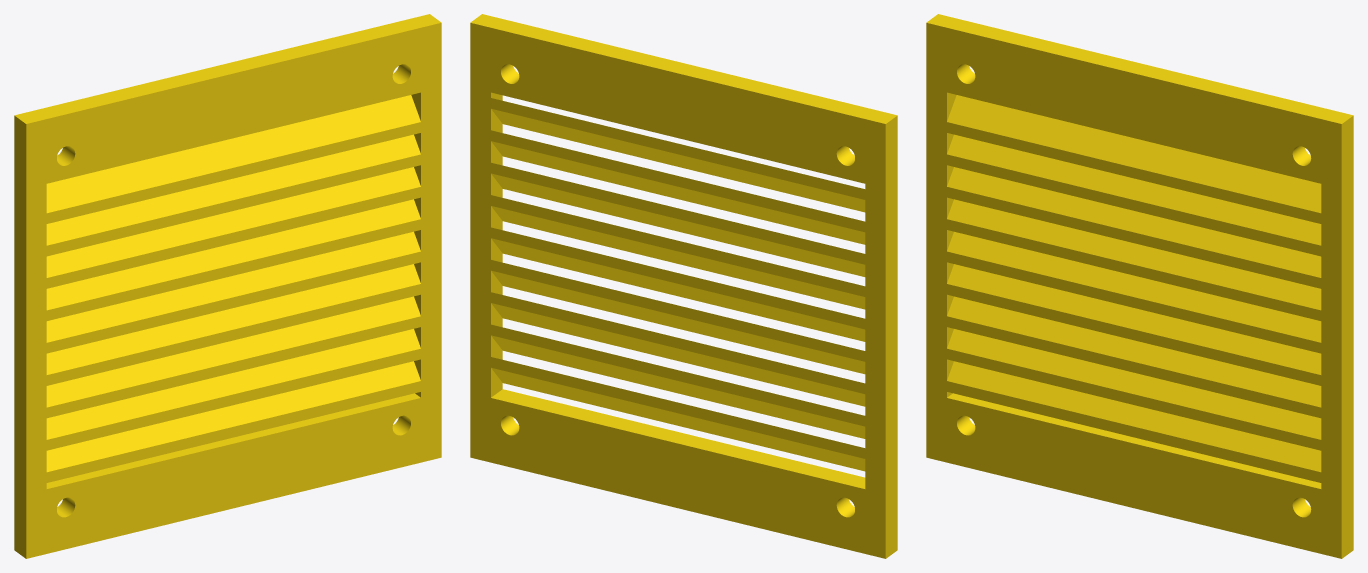
3 views of the same model, side by side, from view 1: azimuth 30°, elevation 25°; view 2: azimuth 150°, elevation 25°; view 3: azimuth 330°, elevation 25° (orthographic).
Parts seen in each view (by area): view 1: mesh53352, mesh53380, mesh53382, mesh53386, mesh53390, mesh53388, mesh53392, mesh53394, mesh53396, mesh53384, mesh53376, mesh53375 (+1 smaller); view 2: mesh53353, mesh53376, mesh53375, mesh53385, mesh53381, mesh53391, mesh53397, mesh53387, mesh53393, mesh53383, mesh53389, mesh53395 (+1 smaller); view 3: mesh53352, mesh53380, mesh53382, mesh53386, mesh53390, mesh53388, mesh53392, mesh53394, mesh53396, mesh53384, mesh53374, mesh53375 (+1 smaller).
Part boxes in pixels (bbox=[...]): mesh53352: bbox=[26, 23, 441, 558]; mesh53380: bbox=[46, 95, 420, 213]; mesh53382: bbox=[46, 134, 420, 245]; mesh53386: bbox=[46, 199, 420, 310]; mesh53390: bbox=[46, 264, 420, 374]; mesh53388: bbox=[46, 231, 420, 342]; mesh53392: bbox=[46, 296, 420, 407]; mesh53394: bbox=[46, 329, 420, 439]; mesh53396: bbox=[46, 361, 420, 472]; mesh53384: bbox=[46, 167, 420, 277]; mesh53376: bbox=[14, 115, 26, 558]; mesh53375: bbox=[14, 14, 441, 123]; mesh53353: bbox=[470, 23, 885, 558]; mesh53376: bbox=[885, 115, 897, 558]; mesh53375: bbox=[470, 14, 897, 123]; mesh53385: bbox=[491, 173, 865, 276]; mesh53381: bbox=[491, 108, 865, 212]; mesh53391: bbox=[491, 270, 865, 374]; mesh53397: bbox=[491, 367, 865, 471]; mesh53387: bbox=[491, 206, 865, 309]; mesh53393: bbox=[491, 303, 865, 406]; mesh53383: bbox=[491, 141, 865, 244]; mesh53389: bbox=[491, 238, 865, 341]; mesh53395: bbox=[491, 335, 865, 438]; mesh53352: bbox=[926, 23, 1341, 558]; mesh53380: bbox=[947, 95, 1321, 213]; mesh53382: bbox=[947, 134, 1321, 245]; mesh53386: bbox=[947, 199, 1321, 310]; mesh53390: bbox=[947, 264, 1321, 374]; mesh53388: bbox=[947, 231, 1321, 342]; mesh53392: bbox=[947, 296, 1321, 407]; mesh53394: bbox=[947, 329, 1321, 439]; mesh53396: bbox=[947, 361, 1321, 472]; mesh53384: bbox=[947, 167, 1321, 277]; mesh53374: bbox=[1341, 115, 1353, 558]; mesh53375: bbox=[926, 14, 1353, 123].
Size of the model in its own units: 0.1024 by 0.1024 by 0.00508.
